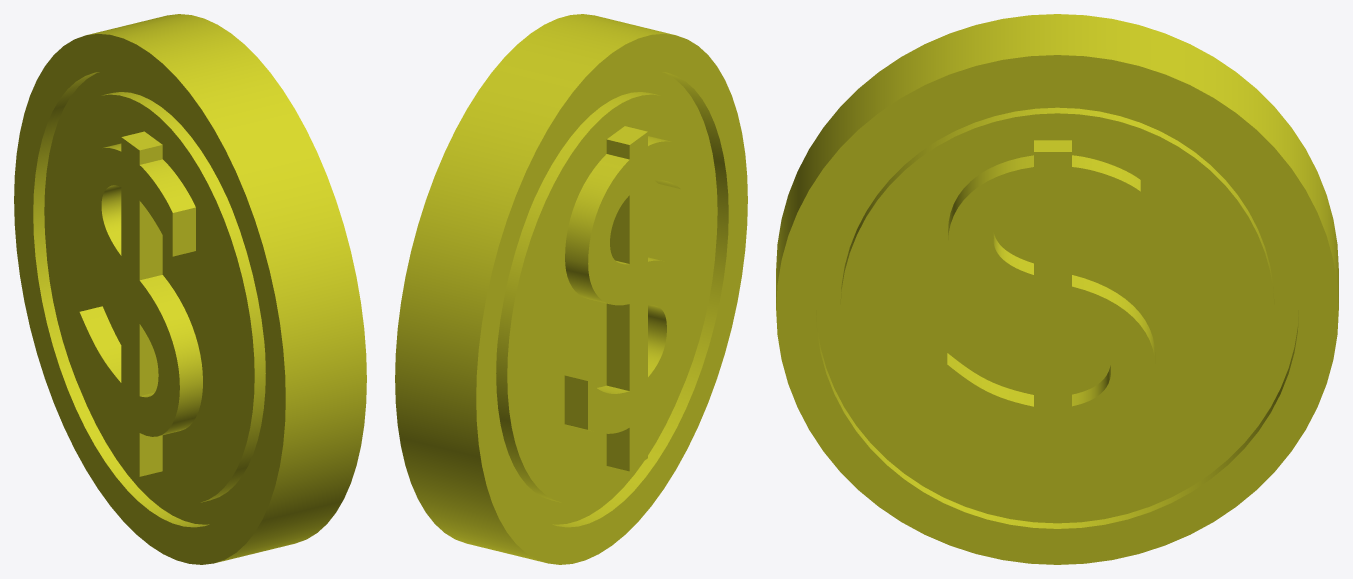
File: Coin (2).glb
3 renders of one model, left to right at view 1: azimuth 30°, elevation 25°; view 2: azimuth 150°, elevation 25°; view 3: azimuth 270°, elevation 25°, orthographic. The views are drawn at different scales.
Visible parts, largest first — view 1: Coin; view 2: Coin; view 3: Coin.
Part boxes in pixels (x1,y1,x2,y2): Coin: (14, 14, 366, 564); Coin: (395, 14, 747, 564); Coin: (776, 14, 1338, 564).
Bounding box in the file's own units: 0.5414 × 2 × 2.
Materials: 1 (1 with a texture image).
